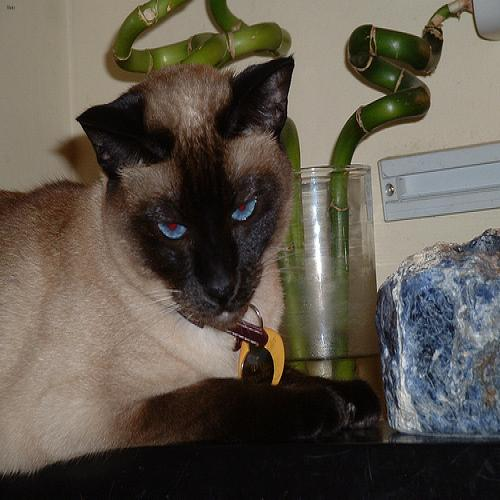siamese: (70, 39, 317, 346)
